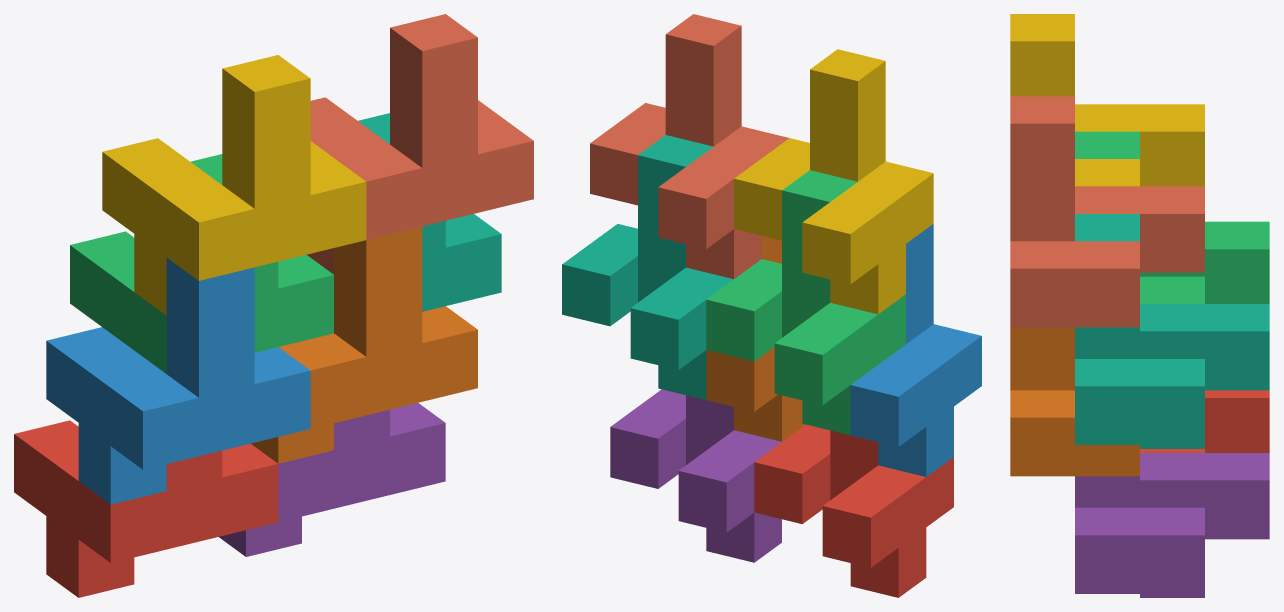
The model's file is tiling.obj.
The picture shows the model from 3 angles, left to right: view 1: azimuth 30°, elevation 25°; view 2: azimuth 150°, elevation 25°; view 3: azimuth 270°, elevation 25°; orthographic projection. The views are drawn at different scales.
Visible parts, largest first — view 1: copy_1_domain_4, copy_1_domain_2, copy_1_domain_8, copy_1_domain_6, copy_1_domain_1, copy_1_domain_3, copy_1_domain_5, copy_1_domain_7; view 2: copy_1_domain_4, copy_1_domain_8, copy_1_domain_3, copy_1_domain_1, copy_1_domain_7, copy_1_domain_5, copy_1_domain_2, copy_1_domain_6; view 3: copy_1_domain_8, copy_1_domain_7, copy_1_domain_5, copy_1_domain_4, copy_1_domain_6, copy_1_domain_3, copy_1_domain_1.
Part boxes in pixels (x1,y1,x2,y2): copy_1_domain_4: (102,55,366,315); copy_1_domain_2: (46,258,310,504); copy_1_domain_8: (307,14,533,274); copy_1_domain_6: (251,226,477,463); copy_1_domain_1: (14,420,278,597); copy_1_domain_3: (70,154,333,373); copy_1_domain_5: (219,403,445,556); copy_1_domain_7: (358,113,501,311); copy_1_domain_4: (734,49,933,314); copy_1_domain_8: (590,14,788,278); copy_1_domain_3: (706,170,905,435); copy_1_domain_1: (754,424,953,597); copy_1_domain_7: (562,135,733,399); copy_1_domain_5: (610,389,781,562); copy_1_domain_2: (850,224,981,476); copy_1_domain_6: (706,236,805,441); copy_1_domain_8: (1010,96,1204,327); copy_1_domain_7: (1075,214,1269,448); copy_1_domain_5: (1075,453,1269,597); copy_1_domain_4: (1010,14,1204,186); copy_1_domain_6: (1010,327,1139,476); copy_1_domain_3: (1075,131,1269,303); copy_1_domain_1: (1140,390,1269,452).
Size of the model in its own units: 7 by 9 by 4.
